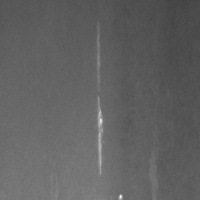scratches: (93, 24, 108, 177)
